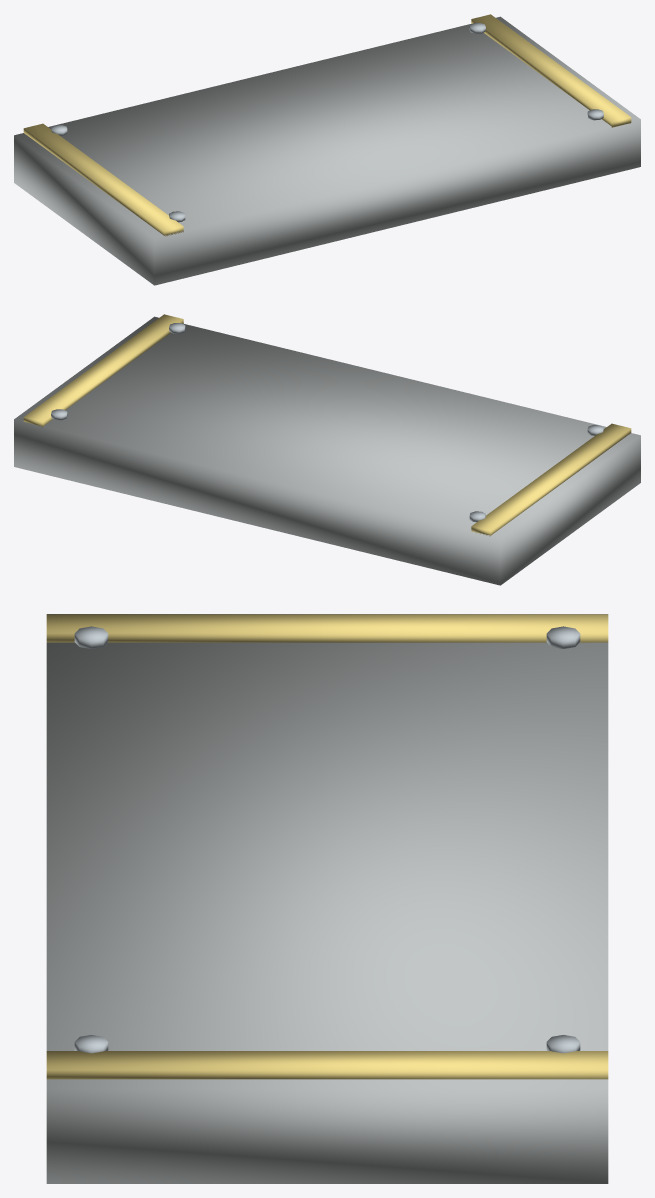
The model's file is loading_dock_ultra.glb.
The picture shows the model from 3 angles, top to bottom: view 1: azimuth 30°, elevation 25°; view 2: azimuth 150°, elevation 25°; view 3: azimuth 270°, elevation 25°; orthographic projection. The views are drawn at different scales.
Parts seen in each view (by area): view 1: Base_concrete, Markings_yellow, AnchorBolt_steel; view 2: Base_concrete, Markings_yellow, AnchorBolt_steel; view 3: Base_concrete, Markings_yellow, AnchorBolt_steel.
Part boxes in pixels (<box>): Base_concrete: <box>14,16,640,285</box>; Markings_yellow: <box>23,14,631,236</box>; AnchorBolt_steel: <box>51,23,603,222</box>; Base_concrete: <box>14,316,640,585</box>; Markings_yellow: <box>23,314,631,536</box>; AnchorBolt_steel: <box>51,323,603,522</box>; Base_concrete: <box>46,614,608,1183</box>; Markings_yellow: <box>46,614,608,1079</box>; AnchorBolt_steel: <box>74,626,580,1053</box>.
Size of the model in its own units: 3 by 0.3205 by 1.5.
